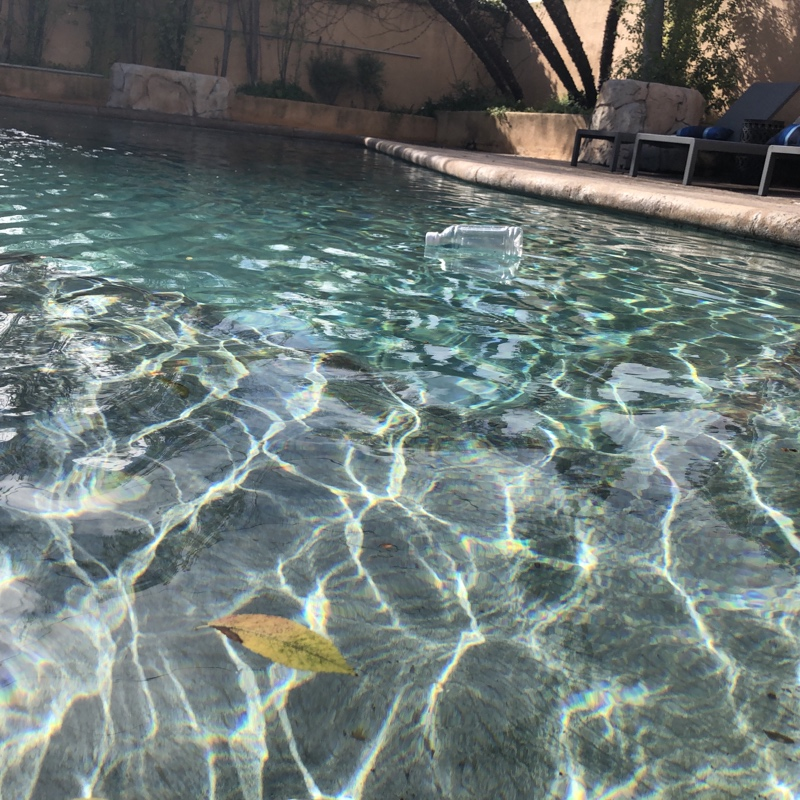Plastic Bottle: (422, 220, 526, 260)
